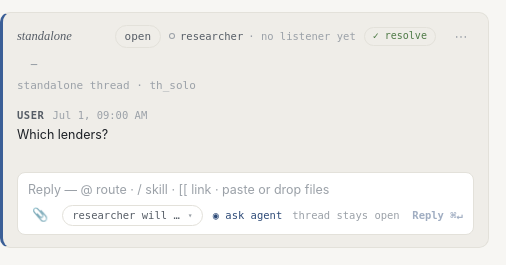
Test: designating a resident › offers the release once there is one, and takes the badge away again
The image size is (506, 265).
Check: the element with class "t-resident" is shown, box [169,29,356,44]
Right-click the element with class "thread-card" at (244, 130), box [0,12,489,248]
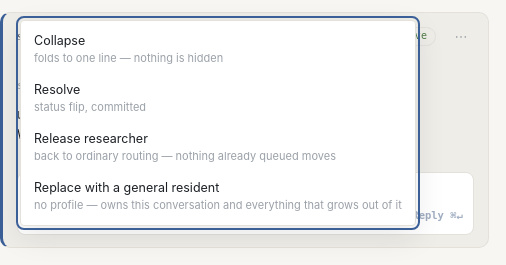
Check: the menu item that starts with "Release researcher" is shown
Click the menu item that starts with "Release researcher" at (218, 148), box [25,123,411,172]
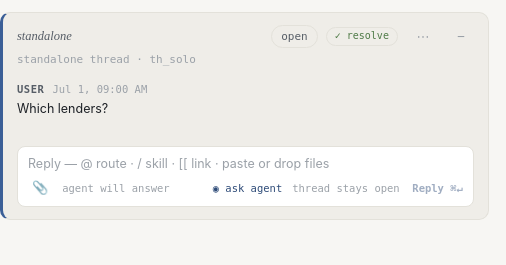
Check: the element with class "t-resident" is gone
